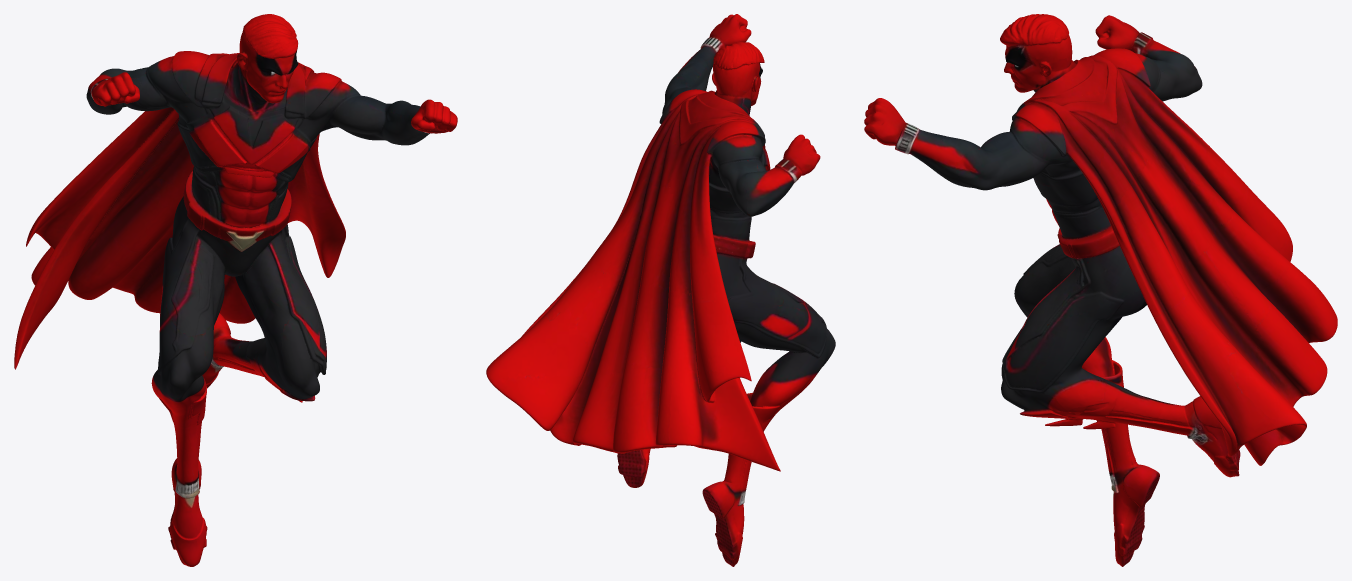
Rendered from char_b.glb.
The picture shows the model from 3 angles, left to right: view 1: azimuth 30°, elevation 25°; view 2: azimuth 150°, elevation 25°; view 3: azimuth 270°, elevation 25°; orthographic projection. The views are drawn at different scales.
Parts seen in each view (by area): view 1: mesh_node; view 2: mesh_node; view 3: mesh_node.
Part boxes in pixels (box(x1,y1,x2,y2)): mesh_node: box(14, 14, 457, 566); mesh_node: box(486, 14, 835, 566); mesh_node: box(864, 14, 1337, 566).
Bounding box in the file's own units: 1.13 × 1.9 × 1.44.
Materials: 1 (1 with a texture image).
